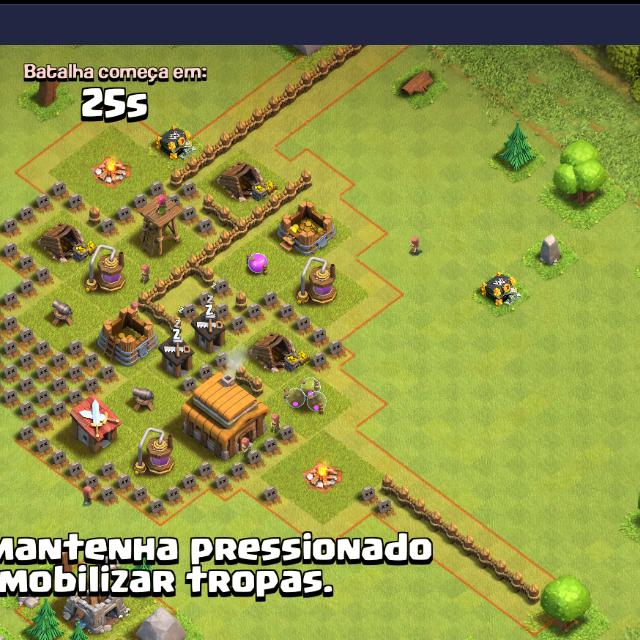Arqueira: (140, 194, 182, 253)
Canhao: (46, 298, 76, 328), (128, 383, 158, 413)
